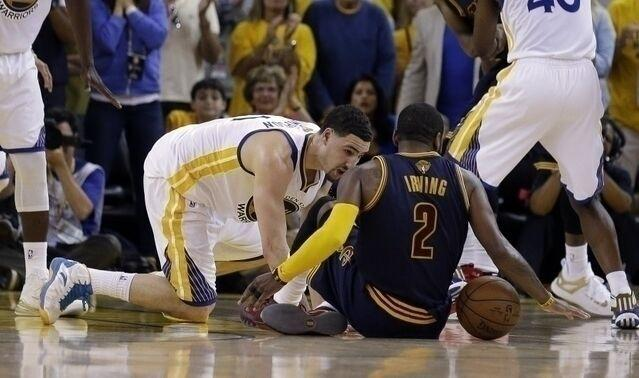10+: (1, 1, 639, 342)
down: (233, 98, 545, 341)
